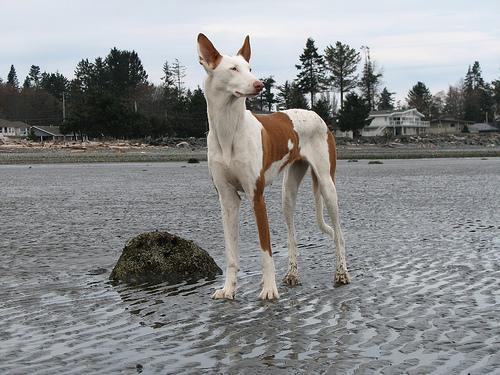Ibizan_hound: (196, 33, 352, 301)
